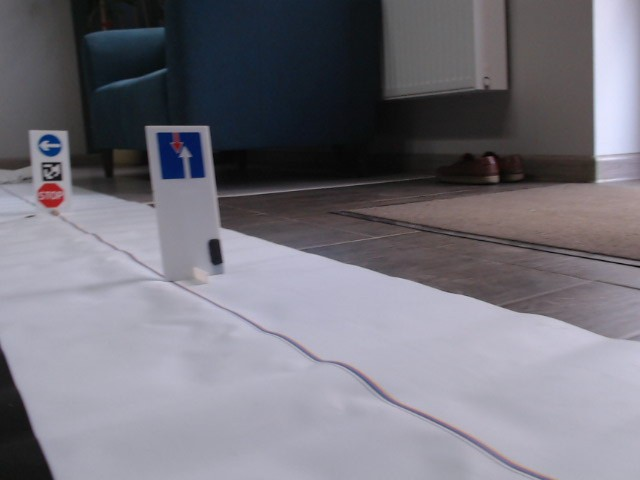Stop: (34, 182, 64, 208)
priority_movement: (154, 131, 208, 180)
